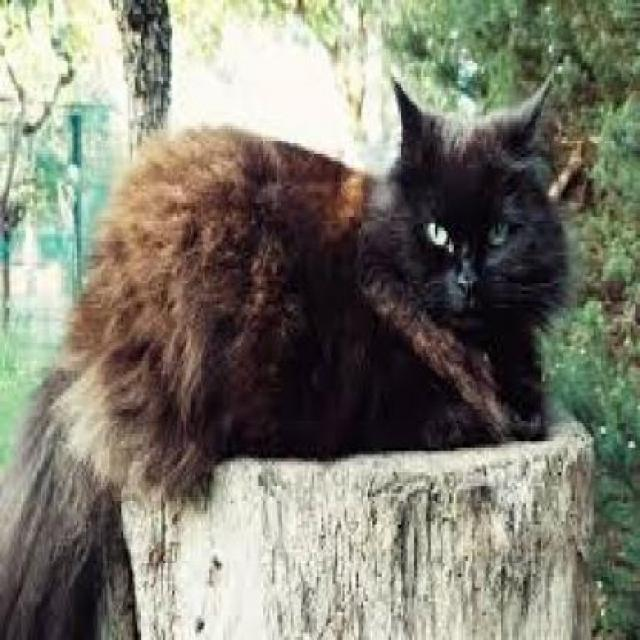animals: (74, 70, 566, 455)
